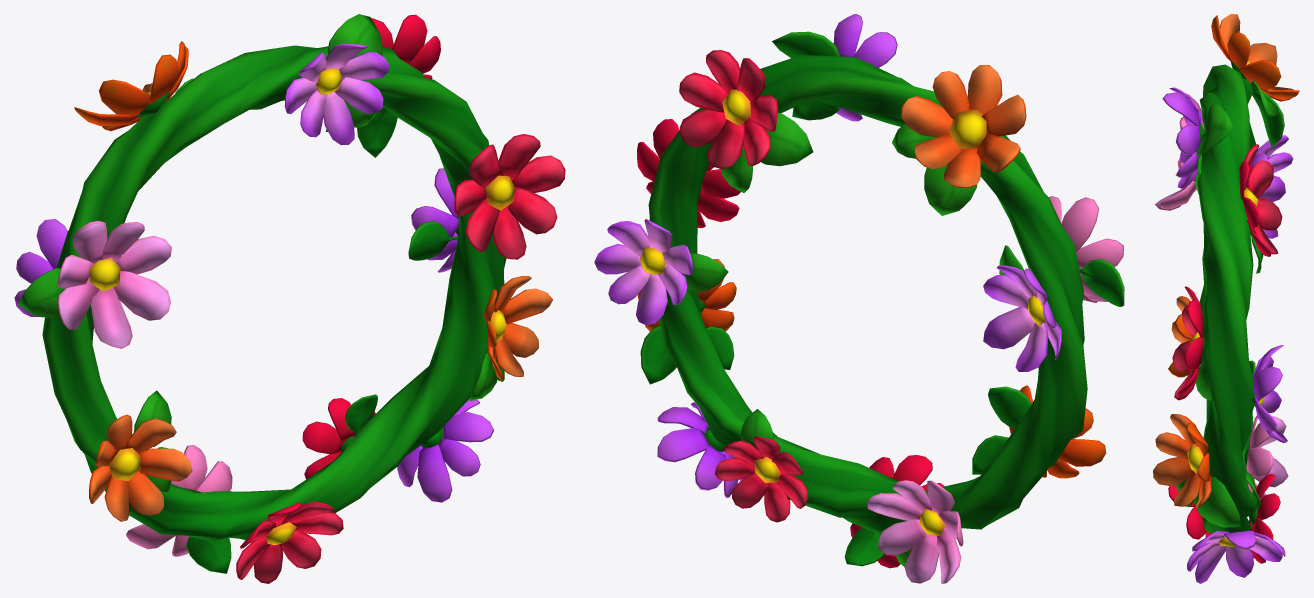
The model's file is HuaHuan.FBX.
3 renders of one model, left to right at view 1: azimuth 30°, elevation 25°; view 2: azimuth 150°, elevation 25°; view 3: azimuth 270°, elevation 25°, orthographic. The views are drawn at different scales.
Visible parts, largest first — view 1: HuaHuan; view 2: HuaHuan; view 3: HuaHuan.
Part boxes in pixels (bbox=[...]): HuaHuan: bbox=[14, 14, 565, 583]; HuaHuan: bbox=[594, 14, 1124, 583]; HuaHuan: bbox=[1153, 14, 1299, 583].
Bounding box in the file's own units: 116 × 116 × 31.42.
Materials: 1 (1 with a texture image).
